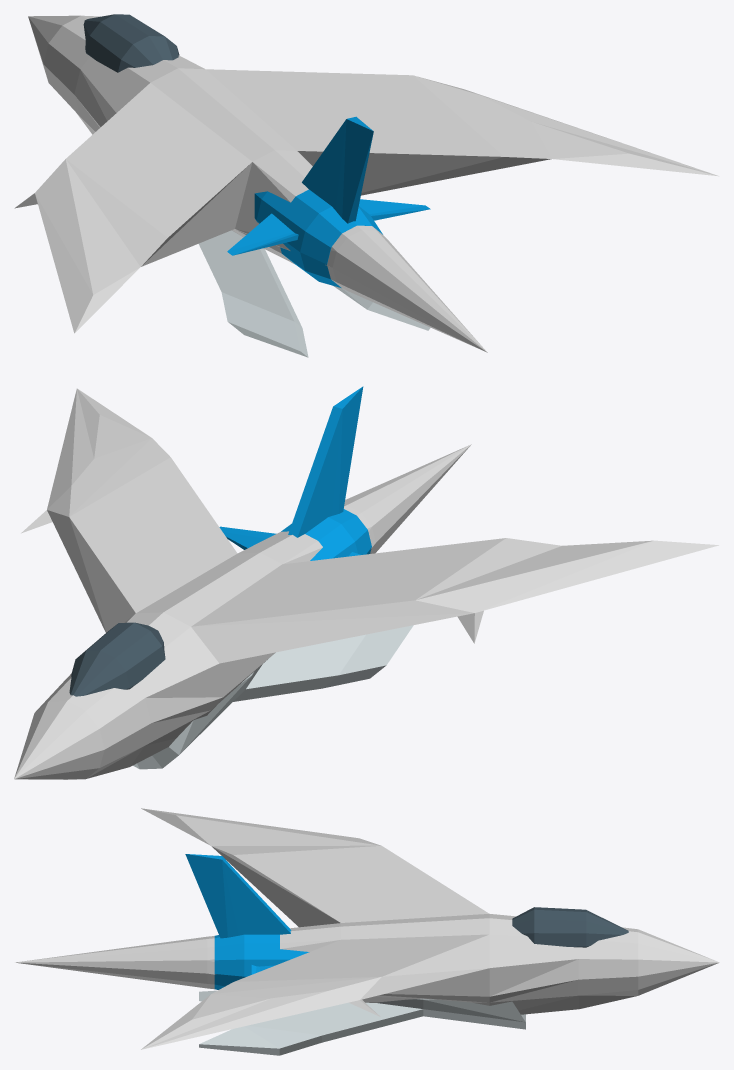
Rendered from scene_vUz6IsQueJ.glb.
The picture shows the model from 3 angles, top to bottom: view 1: azimuth 30°, elevation 25°; view 2: azimuth 150°, elevation 25°; view 3: azimuth 270°, elevation 25°; orthographic projection. The views are drawn at different scales.
Parts seen in each view (by area): view 1: group1908365863, group1246711120, group1270747425, group2037710231, group1499290911; view 2: group1908365863, group1246711120, group1270747425, group1499290911, group2037710231; view 3: group1908365863, group1246711120, group1270747425, group1499290911, group2037710231.
Part boxes in pixels (x1=…): group1908365863: x1=14, y1=15, x2=718, y2=352; group1246711120: x1=199, y1=230, x2=430, y2=357; group1270747425: x1=227, y1=116, x2=430, y2=255; group2037710231: x1=254, y1=189, x2=382, y2=287; group1499290911: x1=83, y1=14, x2=179, y2=72; group1908365863: x1=14, y1=388, x2=718, y2=779; group1246711120: x1=133, y1=625, x2=413, y2=769; group1270747425: x1=219, y1=386, x2=363, y2=556; group1499290911: x1=69, y1=622, x2=165, y2=696; group2037710231: x1=281, y1=509, x2=371, y2=560; group1908365863: x1=15, y1=808, x2=719, y2=1049; group1246711120: x1=199, y1=990, x2=525, y2=1055; group1270747425: x1=185, y1=854, x2=291, y2=974; group1499290911: x1=512, y1=907, x2=628, y2=947; group2037710231: x1=214, y1=934, x2=309, y2=989.
Size of the model in its own units: 0.77 by 0.2671 by 0.95.
